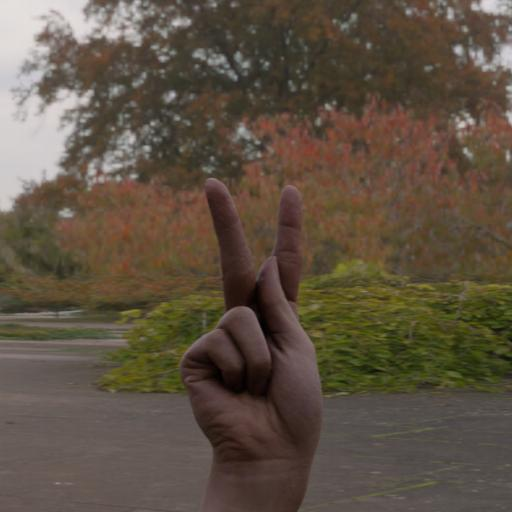K: (146, 139, 416, 512)
